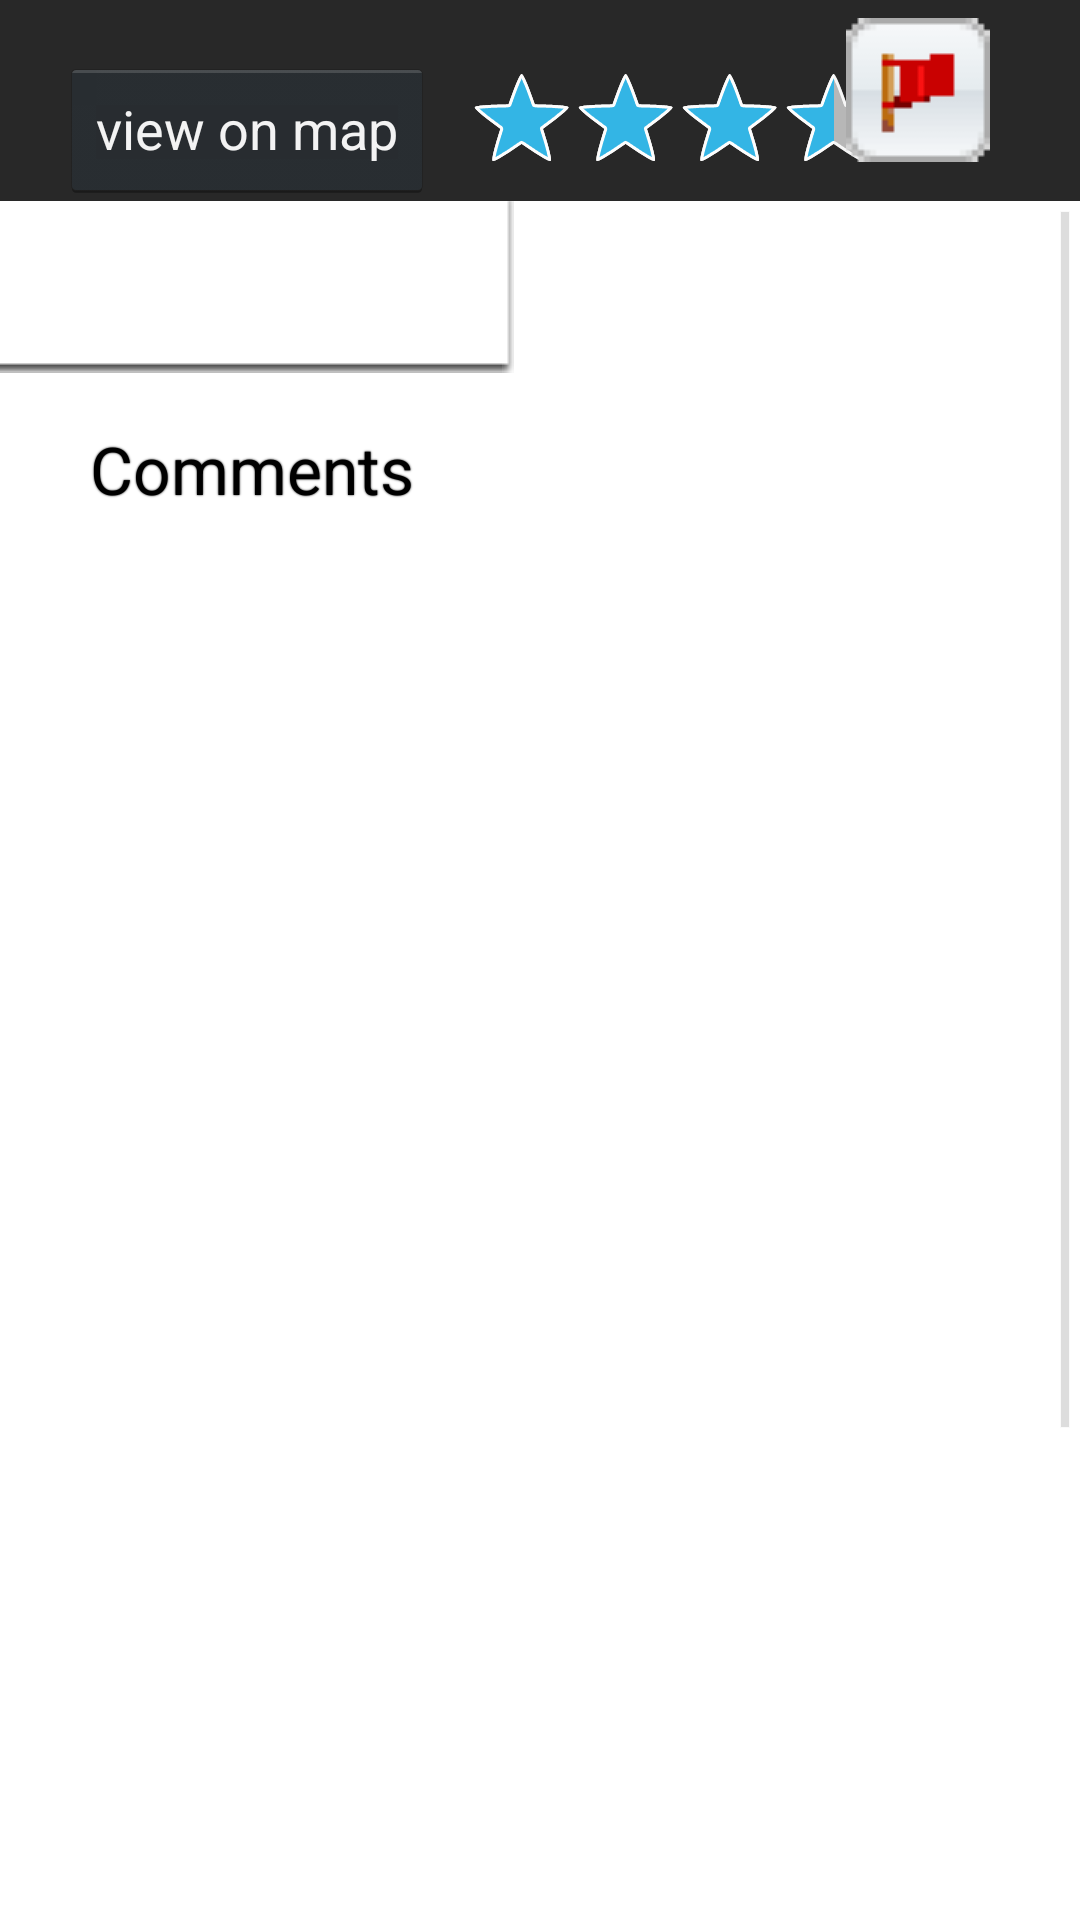

Named icons in this screenshot (1080w x 1920h) and their centers, (x,y):
report: (918,90)
